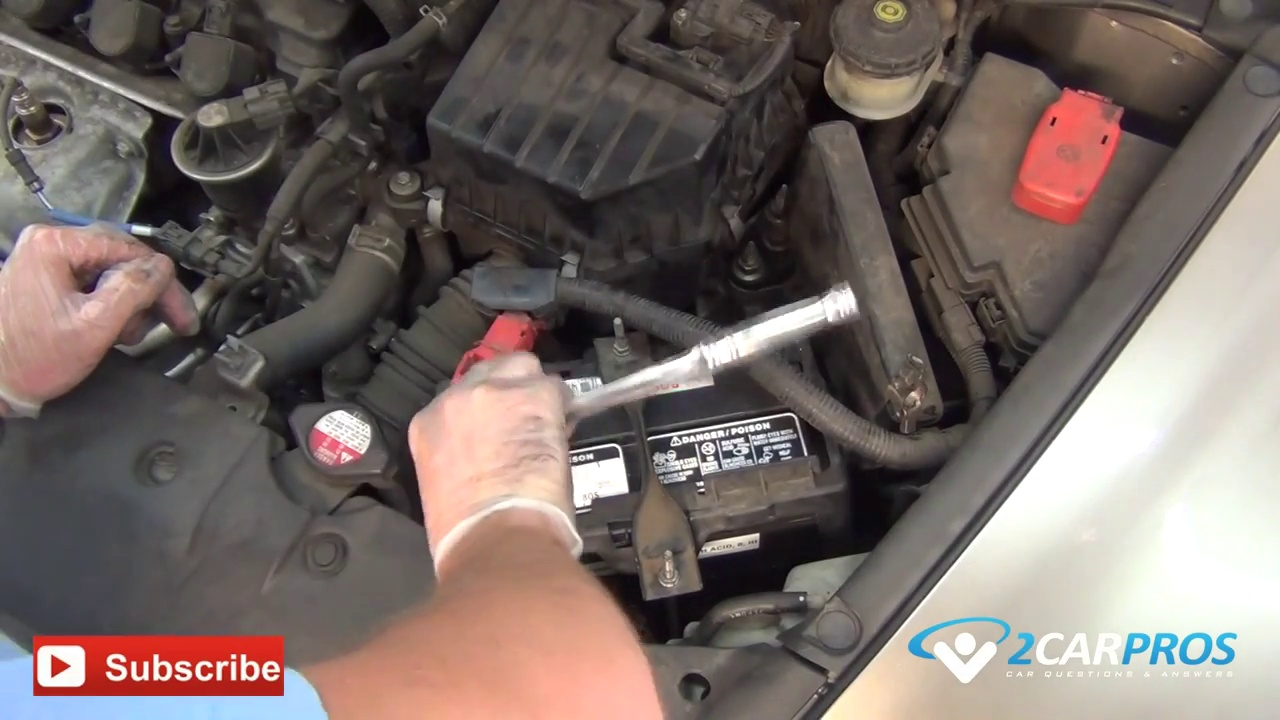battery: (458, 336, 832, 552)
pos_touched: (443, 308, 555, 436)
